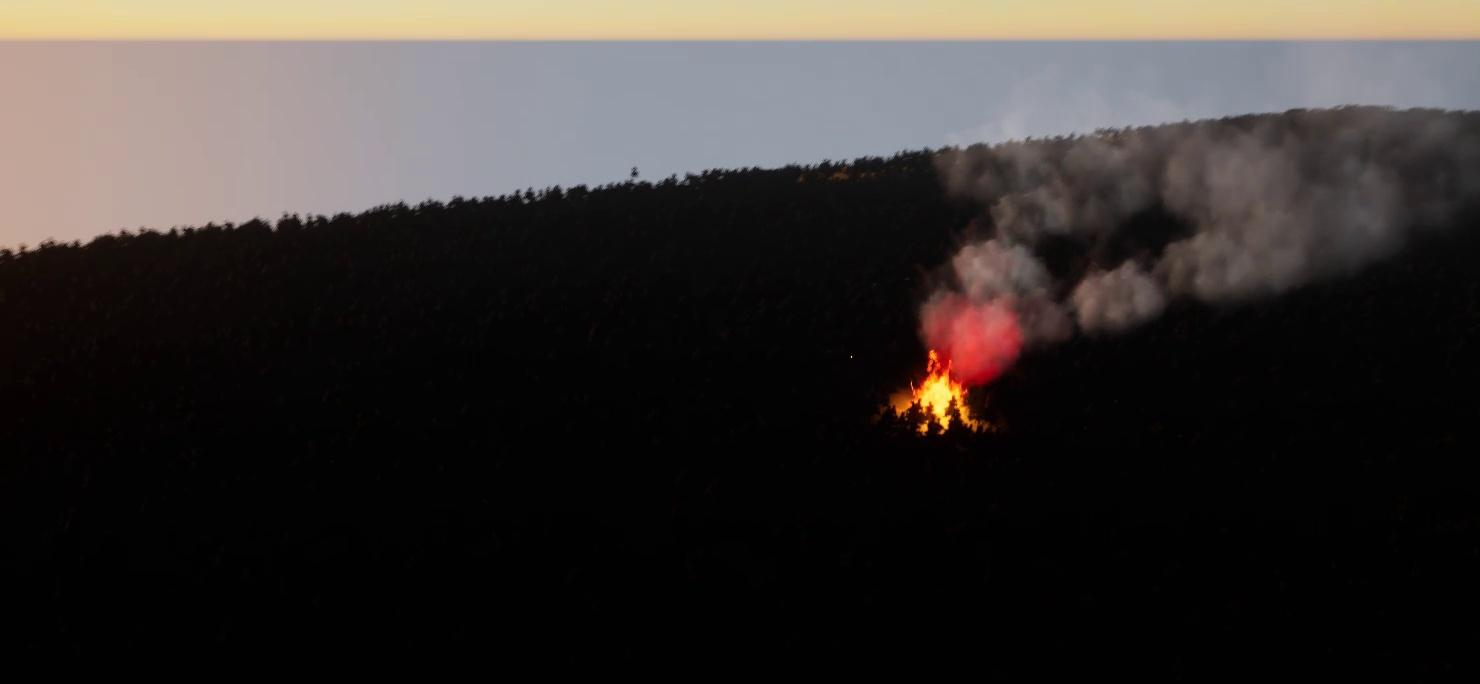fire: (900, 370, 980, 432)
smoke: (923, 60, 1477, 375)
